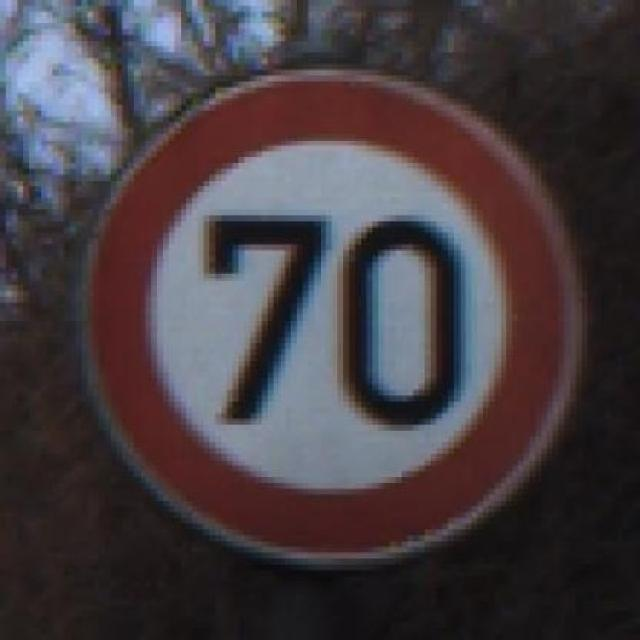forb_speed_over_70: (86, 71, 577, 560)
